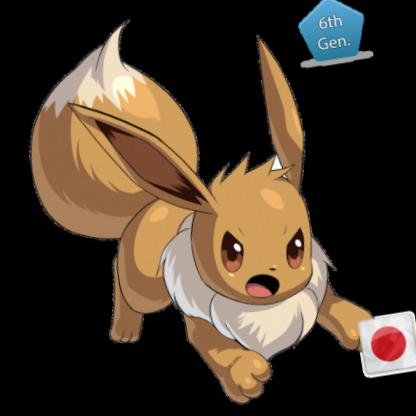Eevee: (1, 1, 416, 412)
